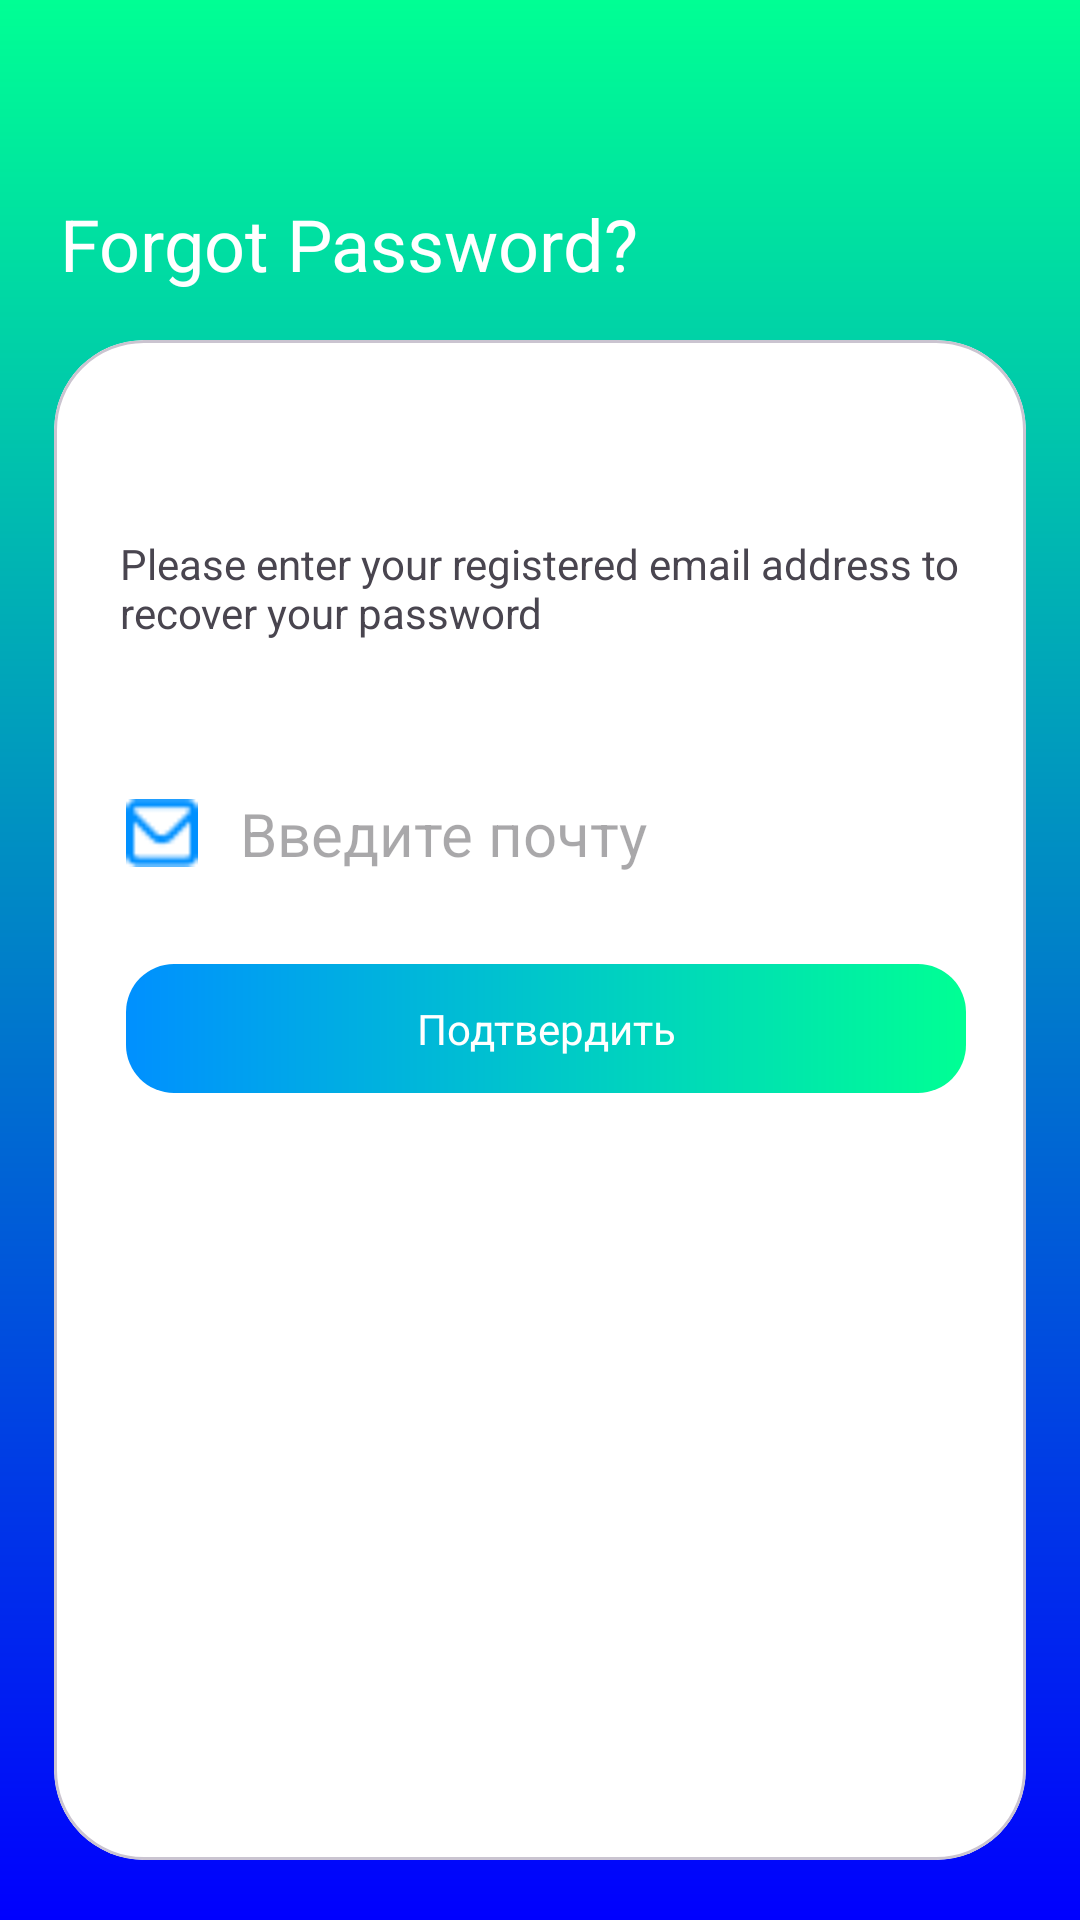

Named icons in this screenshot (1080 × 1920) and their centers, (x,y):
email: (162,833)
